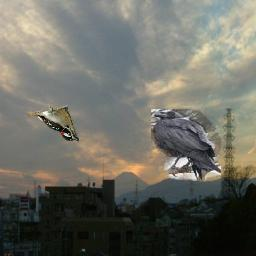Crow: (151, 109, 221, 181)
Woodpecker: (27, 106, 79, 143)
